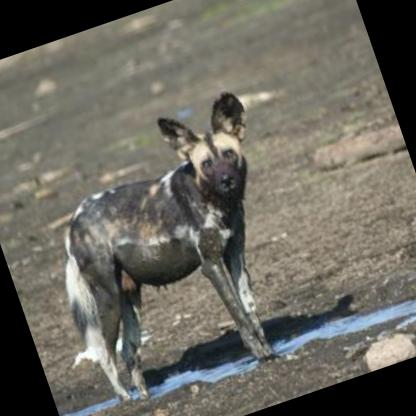African_hunting_dog: (1, 80, 330, 416)
